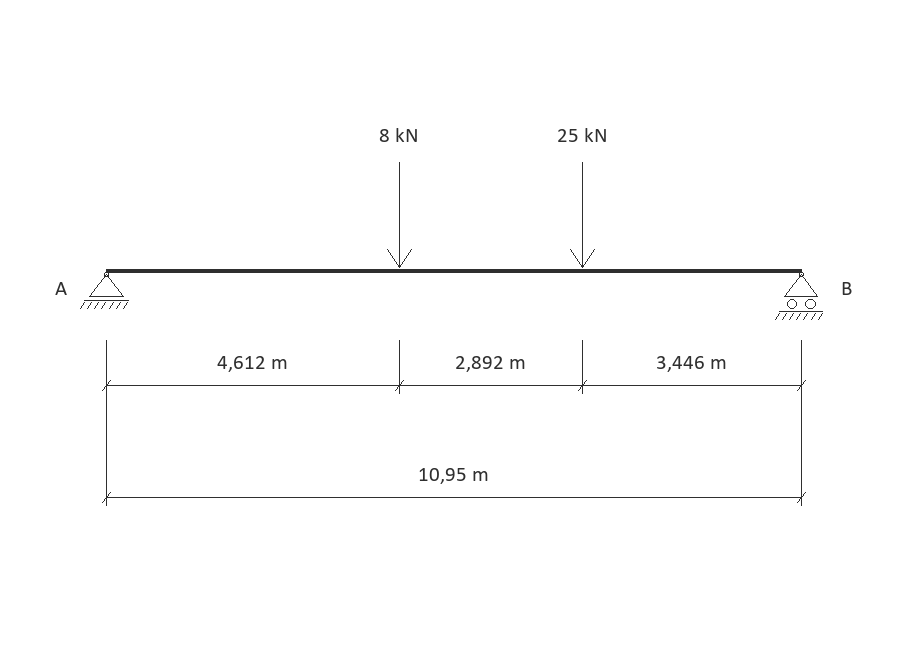pin_support: (80, 272, 129, 309)
point_load: (387, 162, 412, 268), (570, 162, 595, 268)
roller_support: (775, 272, 823, 320)
